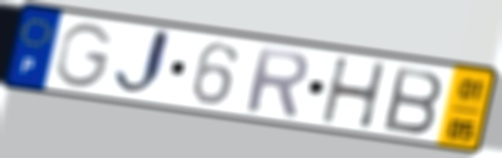6: (190, 40, 242, 109)
B: (381, 63, 447, 137)
G: (53, 21, 118, 91)
H: (319, 55, 391, 131)
J: (110, 25, 176, 100)
R: (243, 43, 312, 120)
